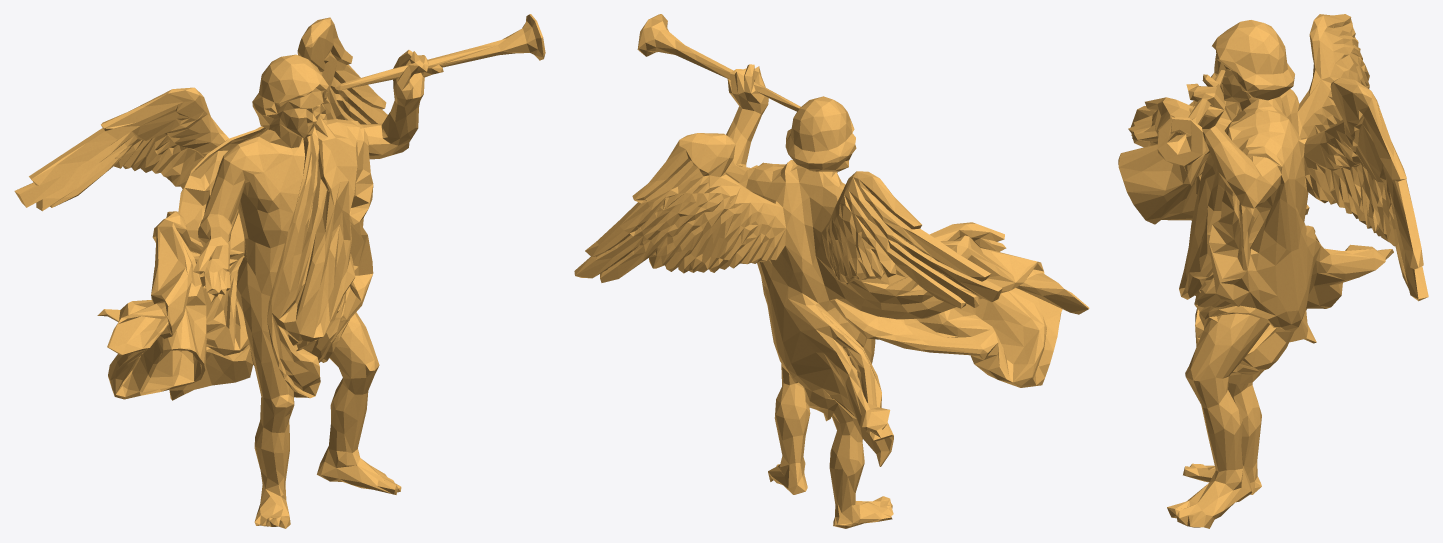
File: columna.fbx
3 views of the same model, side by side, from view 1: azimuth 30°, elevation 25°; view 2: azimuth 150°, elevation 25°; view 3: azimuth 270°, elevation 25° (orthographic). The views are drawn at different scales.
Parts seen in each view (by area): view 1: LOW 4000; view 2: LOW 4000; view 3: LOW 4000.
Boxes of the visible parts, box(x1,y1,x2,y2) form: LOW 4000: box(14, 14, 545, 528); LOW 4000: box(574, 14, 1089, 528); LOW 4000: box(1118, 14, 1428, 528).
Bounding box in the file's own units: 183 × 178 × 102.
